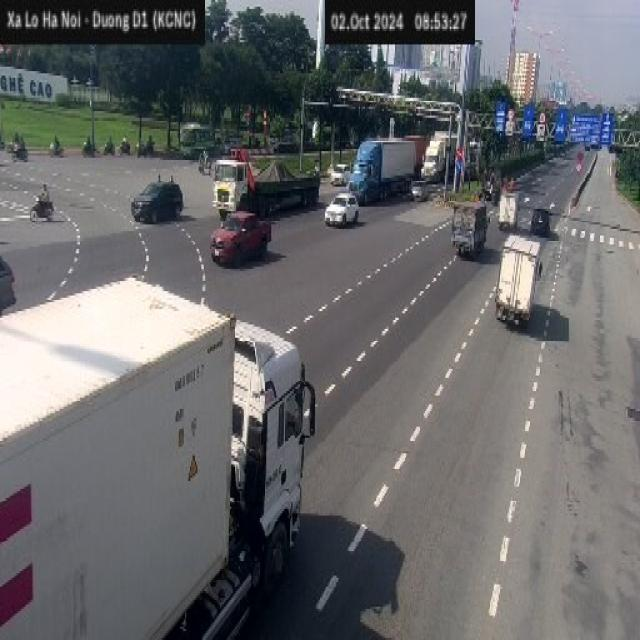car: (209, 209, 271, 267), (130, 178, 182, 222), (324, 191, 358, 227), (530, 207, 550, 236)
container-truck: (343, 134, 418, 208)
motorcycle: (28, 193, 54, 220)
truck: (0, 273, 315, 638), (493, 233, 542, 327)
